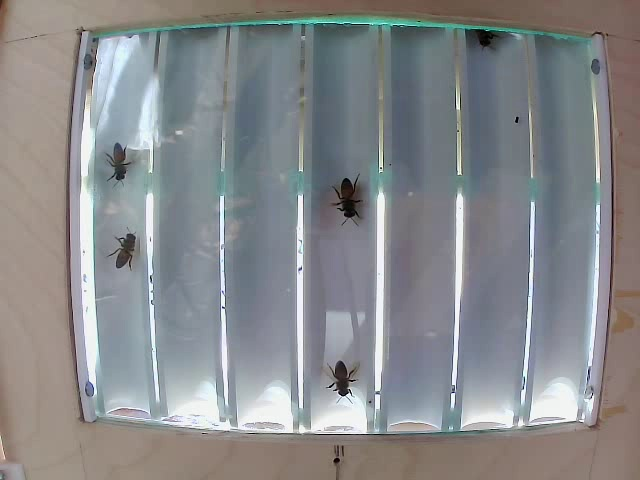bee: (106, 146, 163, 220), (324, 164, 366, 231), (100, 225, 139, 278), (318, 361, 357, 405)
